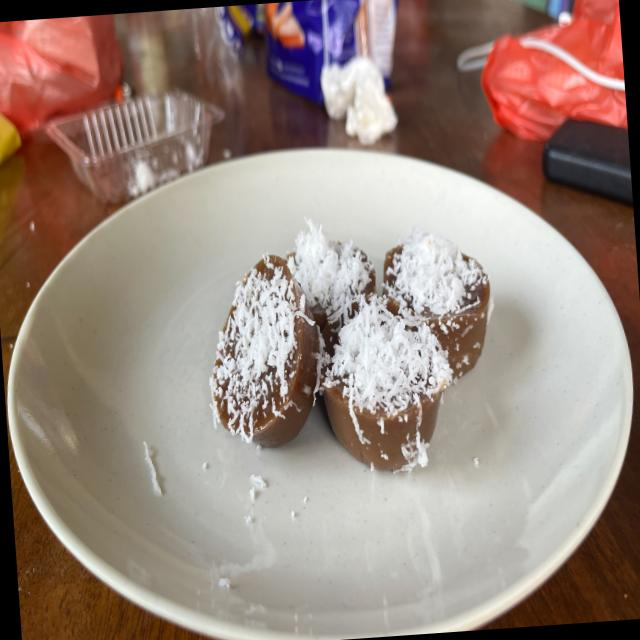Kuih lompang: (322, 294, 452, 471), (210, 254, 319, 447), (382, 226, 490, 377), (287, 218, 375, 355)
